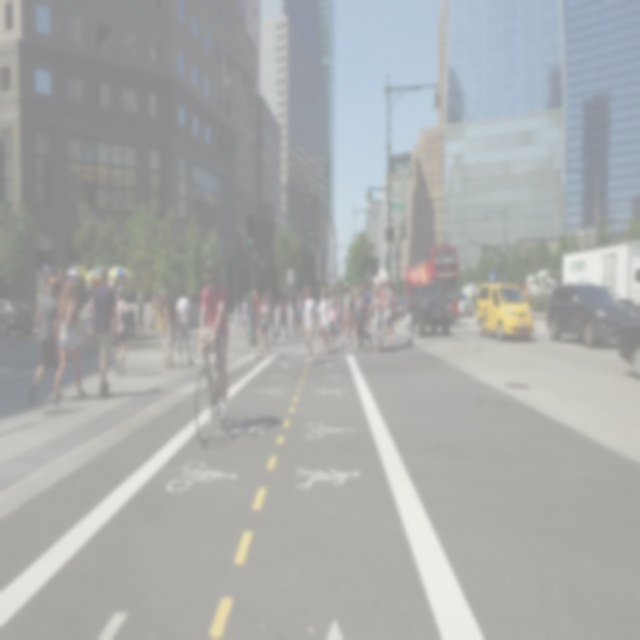pessoa: (199, 257, 229, 423), (28, 276, 66, 404), (51, 278, 89, 406), (93, 264, 119, 400), (114, 284, 130, 378), (176, 285, 194, 368), (301, 284, 317, 366), (162, 294, 178, 370), (254, 292, 270, 362), (314, 289, 330, 356), (339, 280, 354, 348), (357, 289, 373, 351), (402, 280, 417, 346), (262, 286, 277, 348), (367, 286, 382, 348), (325, 284, 338, 355), (274, 288, 290, 339), (372, 286, 384, 354), (383, 278, 394, 346), (362, 284, 374, 335), (380, 292, 392, 342), (156, 300, 170, 340), (298, 284, 308, 332), (352, 290, 360, 350), (240, 292, 249, 339), (149, 294, 159, 334), (336, 285, 344, 335), (136, 286, 144, 332), (253, 288, 261, 332), (156, 289, 164, 331), (335, 293, 343, 335), (127, 305, 136, 340), (234, 300, 242, 339), (289, 288, 299, 316), (28, 293, 36, 319), (378, 282, 385, 310), (90, 286, 96, 314), (158, 290, 166, 306), (394, 292, 398, 314), (350, 286, 357, 298), (96, 353, 100, 372), (297, 288, 301, 307), (319, 281, 326, 291), (358, 282, 366, 290), (317, 326, 322, 338), (116, 293, 120, 307)
